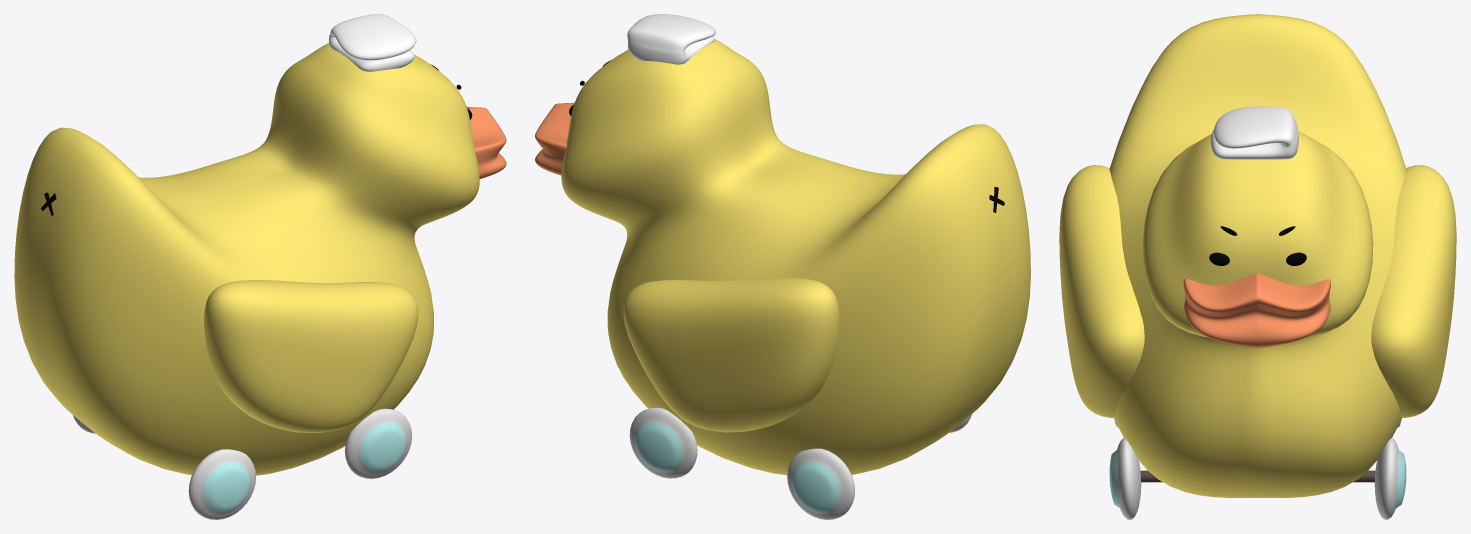
The model's file is asset.glb.
3 views of the same model, side by side, from view 1: azimuth 30°, elevation 25°; view 2: azimuth 150°, elevation 25°; view 3: azimuth 270°, elevation 25° (orthographic). The views are drawn at different scales.
Parts seen in each view (by area): view 1: body, 立方体.002, 球.002, 立方体, 球.001, 立方体.003; view 2: body, 立方体.002, 球.002, 球.001, 立方体, 立方体.003; view 3: body, 立方体.002, 立方体.003, 立方体, 球.001, 球.
Part boxes in pixels (bbox=[...]): body: bbox=[14, 43, 479, 475]; 立方体.002: bbox=[139, 177, 418, 432]; 球.002: bbox=[73, 415, 255, 519]; 立方体: bbox=[329, 14, 416, 71]; 球.001: bbox=[345, 408, 412, 478]; 立方体.003: bbox=[466, 106, 506, 178]; body: bbox=[561, 39, 1030, 475]; 立方体.002: bbox=[623, 174, 903, 432]; 球.002: bbox=[787, 414, 971, 519]; 球.001: bbox=[629, 407, 697, 478]; 立方体: bbox=[627, 14, 715, 64]; 立方体.003: bbox=[535, 102, 574, 175]; body: bbox=[1109, 14, 1406, 497]; 立方体.002: bbox=[1059, 165, 1456, 417]; 立方体.003: bbox=[1183, 273, 1330, 347]; 立方体: bbox=[1210, 106, 1298, 159]; 球.001: bbox=[1109, 438, 1406, 519]; 球: bbox=[1209, 252, 1306, 265].
Bounding box in the file's own units: 2.63 × 2.23 × 1.86.
Materials: 8 (1 with a texture image).
